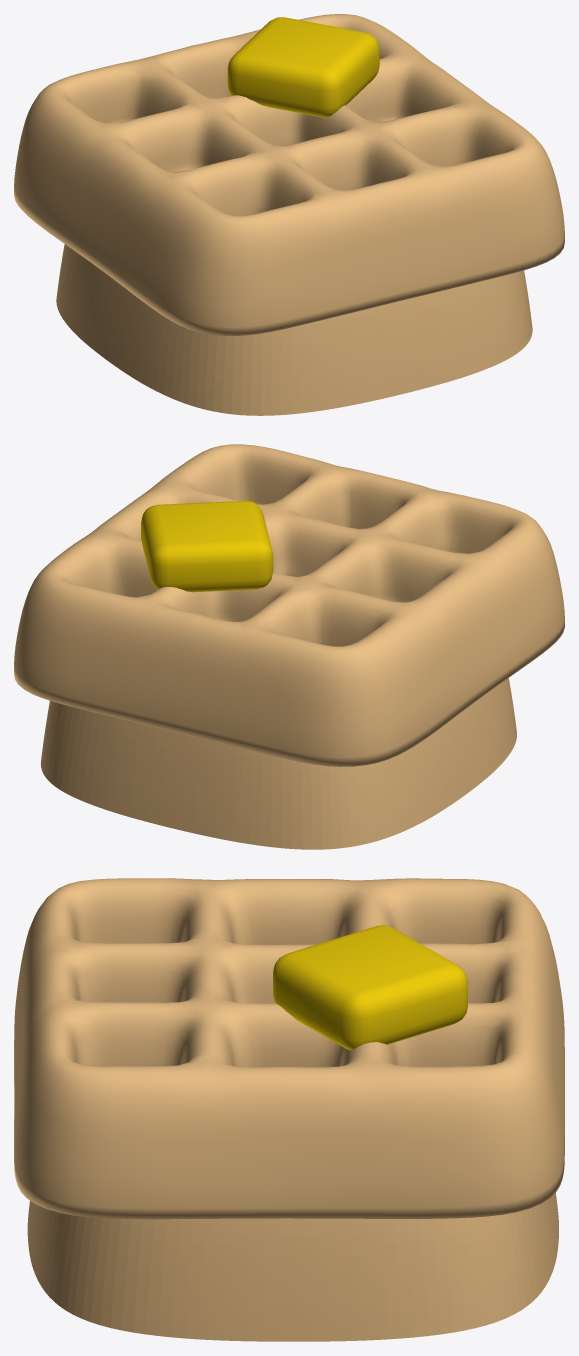
Rendered from KeyCup_Waffel.glb.
3 views of the same model, one above another, from view 1: azimuth 30°, elevation 25°; view 2: azimuth 150°, elevation 25°; view 3: azimuth 270°, elevation 25° (orthographic). The views are drawn at different scales.
Visible parts, largest first — view 1: KeyCup_Waffel; view 2: KeyCup_Waffel; view 3: KeyCup_Waffel.
Boxes of the visible parts, box(x1,y1,x2,y2) form: KeyCup_Waffel: box(14, 14, 564, 415); KeyCup_Waffel: box(14, 444, 564, 849); KeyCup_Waffel: box(14, 878, 564, 1341).
Size of the model in its own units: 19.91 by 11.71 by 19.86.
